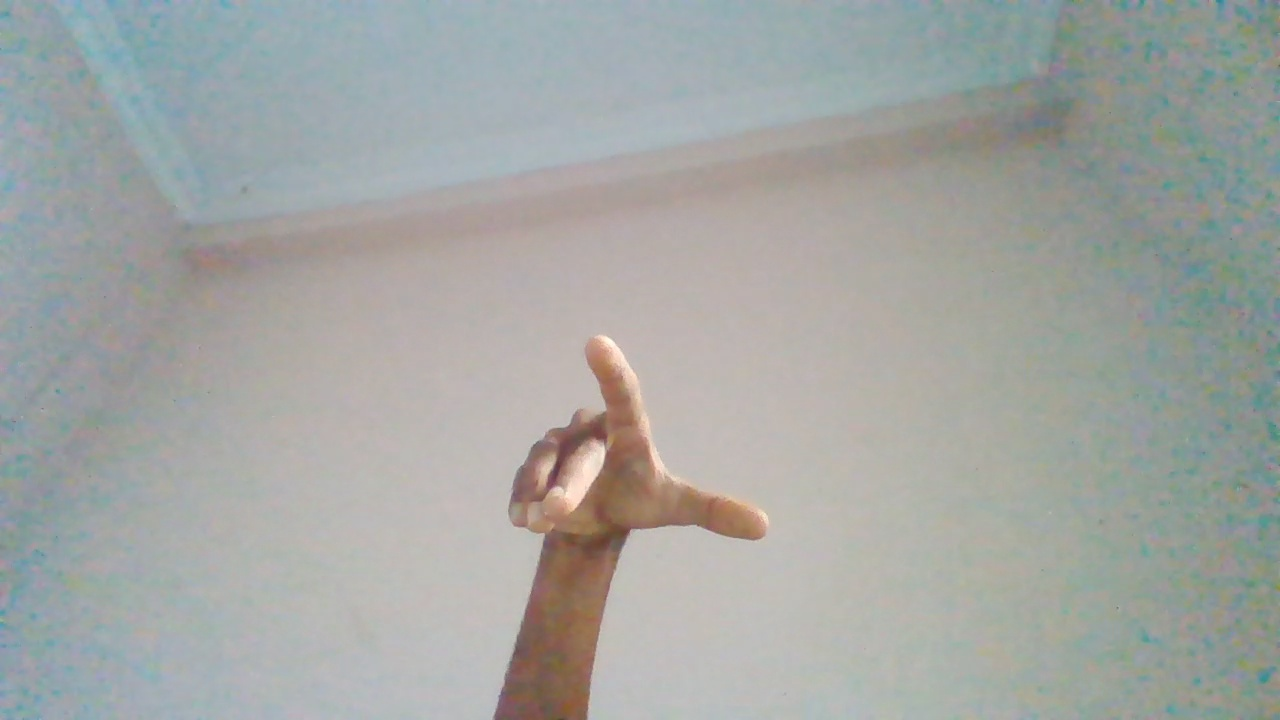ke: (507, 333, 773, 689)
